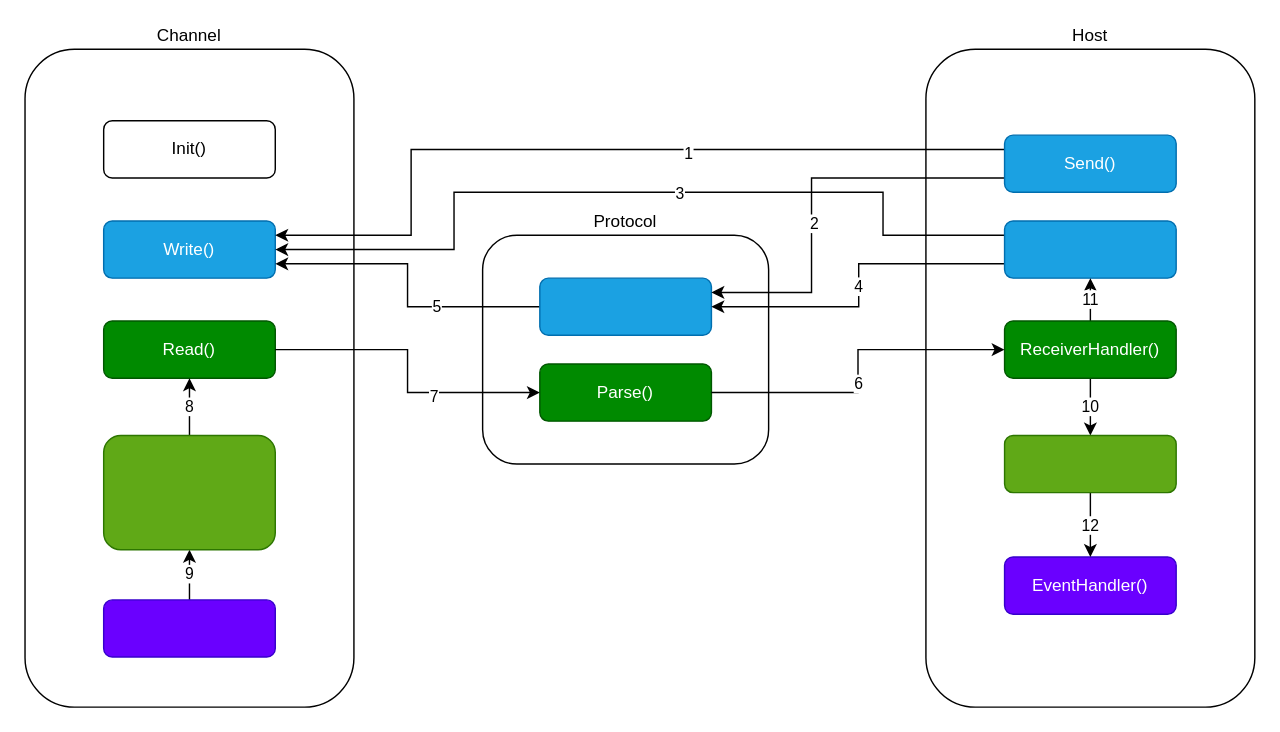
Image size: 1280x732. Some labels were removed from this diagram. Each missing label, with the centre of its shape:
"Event Queue" goes at [1089,463].
"IRQ()" goes at [188,627].
"Package()" goes at [624,306].
"RX buffer" goes at [188,492].
"SendSync()" goes at [1089,249].
